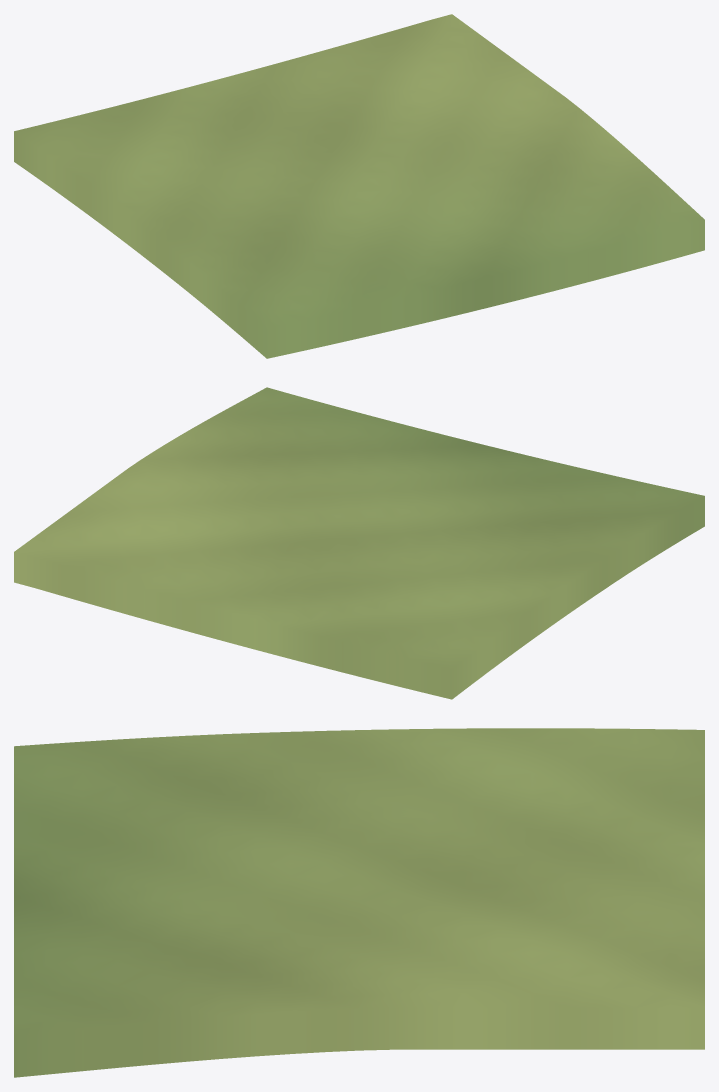
The picture shows the model from 3 angles, top to bottom: view 1: azimuth 30°, elevation 25°; view 2: azimuth 150°, elevation 25°; view 3: azimuth 270°, elevation 25°; orthographic projection. The views are drawn at different scales.
Parts seen in each view (by area): view 1: terrain; view 2: terrain; view 3: terrain.
Part boxes in pixels (x1,y1,x2,y2): terrain: [14, 14, 704, 358]; terrain: [14, 387, 704, 699]; terrain: [14, 728, 704, 1077].
Size of the model in its own units: 30 by 3.64 by 30.
